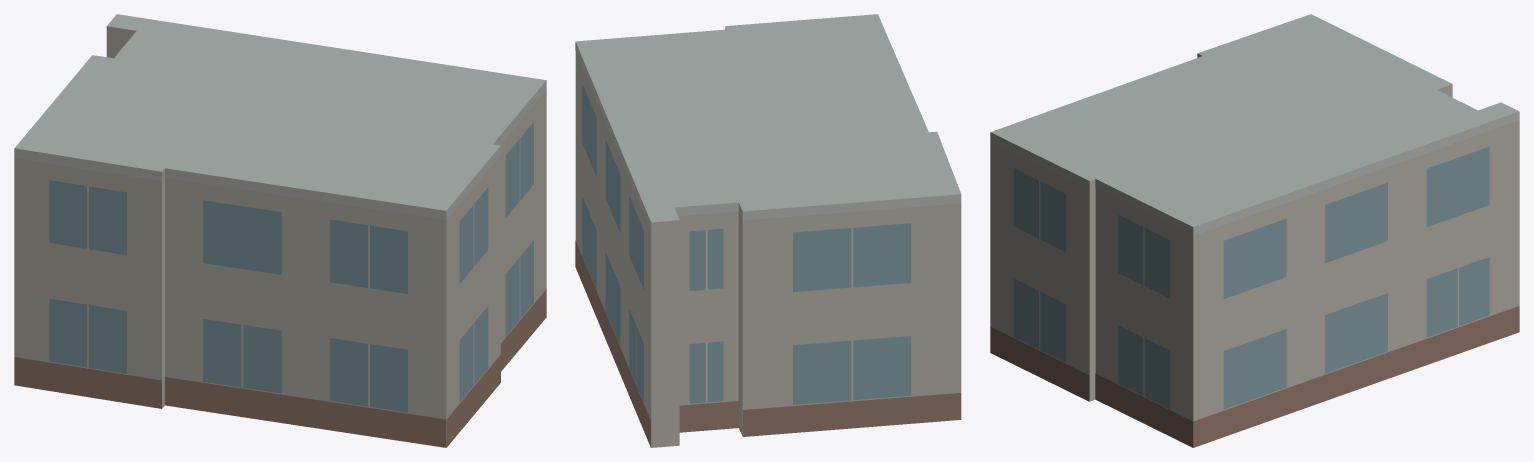
File: survey-upis-32775376.glb
3 views of the same model, side by side, from view 1: azimuth 30°, elevation 25°; view 2: azimuth 150°, elevation 25°; view 3: azimuth 270°, elevation 25° (orthographic). The views are drawn at different scales.
Parts seen in each view (by area): view 1: survey-upis-32775376.tmp; view 2: survey-upis-32775376.tmp; view 3: survey-upis-32775376.tmp.
Part boxes in pixels (<box>): survey-upis-32775376.tmp: <box>14,14,546,447</box>; survey-upis-32775376.tmp: <box>575,14,961,447</box>; survey-upis-32775376.tmp: <box>990,14,1519,447</box>.
Size of the model in its own units: 12.64 by 6.1 by 13.26.
